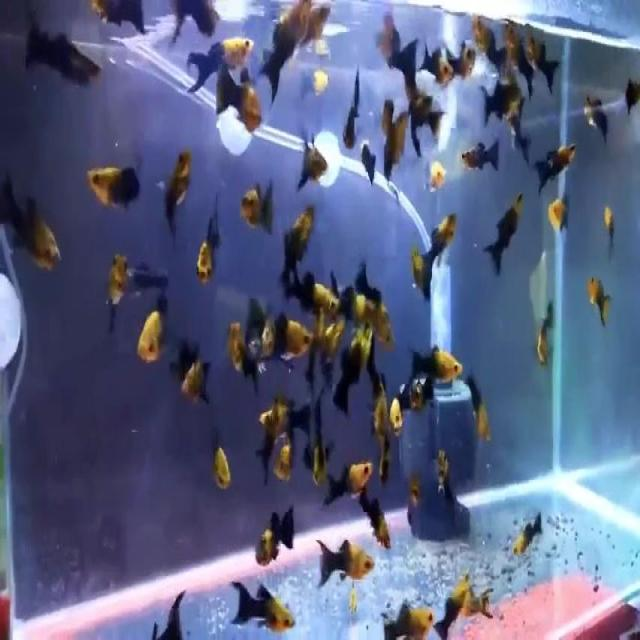PlatyFish: (1, 162, 66, 306), (14, 0, 104, 97), (256, 0, 312, 117), (182, 22, 260, 101), (225, 569, 299, 640), (128, 281, 174, 383), (190, 186, 229, 306), (84, 152, 148, 225), (483, 184, 531, 277), (314, 447, 374, 520), (402, 328, 474, 388), (278, 259, 342, 321), (527, 133, 585, 200), (314, 536, 376, 596), (236, 165, 279, 248), (417, 208, 461, 287), (580, 257, 615, 347), (380, 588, 440, 640), (502, 509, 556, 562), (455, 133, 508, 179)
